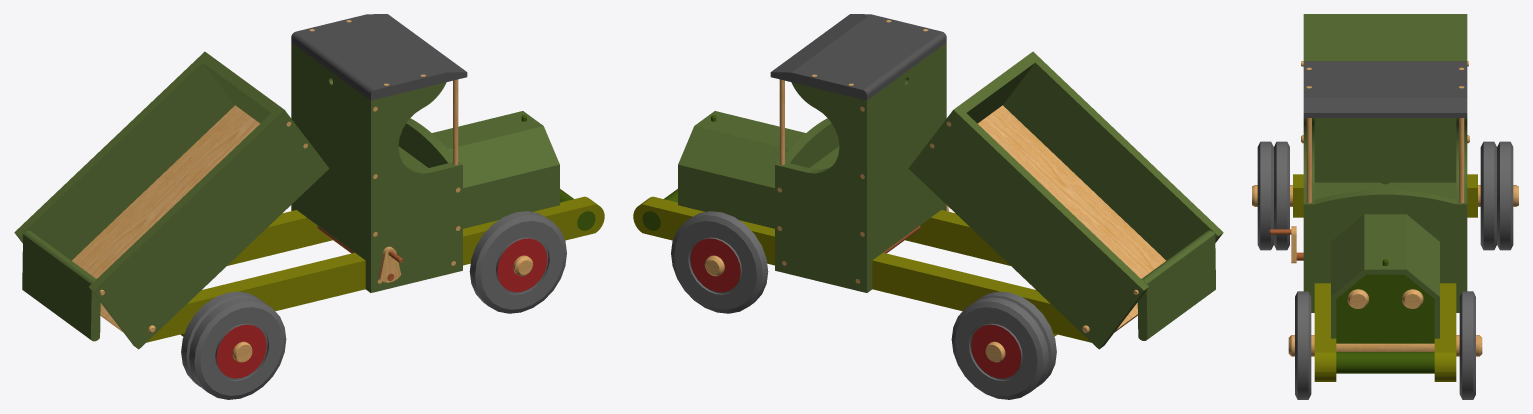
The model's file is truck.dae.
The picture shows the model from 3 angles, left to right: view 1: azimuth 30°, elevation 25°; view 2: azimuth 150°, elevation 25°; view 3: azimuth 270°, elevation 25°; orthographic projection. The views are drawn at different scales.
Visible parts, largest first — view 1: dump_side12, wheel12 (×3), dump_side, cab_side, cab_back, cab_top, frame, dump_bottom, dump_tail_gate, engine_upper_side, engine_side12, frame12 (+6 smaller); view 2: dump_side, wheel (×3), cab_side_1, dump_side12, cab_back, cab_top, frame12, dump_bottom, dump_tail_gate, engine_upper_side12, engine_side, frame (+5 smaller); view 3: cab_top, cab_back, dump_front, cab_front, engine_front_back, wheel (×3), wheel12 (×3), engine_top, _1__dowel_for_frame, engine_upper_side, engine_upper_side12, frame (+14 smaller).
Part boxes in pixels (x1=…): dump_side12: x1=89, y1=106, x2=329, y2=349; wheel12 (×3): x1=181, y1=211, x2=566, y2=399; dump_side: x1=14, y1=51, x2=234, y2=260; cab_side: x1=365, y1=82, x2=462, y2=292; cab_back: x1=296, y1=46, x2=365, y2=259; cab_top: x1=291, y1=14, x2=467, y2=100; frame: x1=146, y1=196, x2=604, y2=342; dump_bottom: x1=71, y1=105, x2=260, y2=331; dump_tail_gate: x1=22, y1=230, x2=100, y2=341; engine_upper_side: x1=448, y1=126, x2=559, y2=188; engine_side12: x1=463, y1=164, x2=559, y2=228; frame12: x1=227, y1=210, x2=332, y2=265; dump_side: x1=908, y1=106, x2=1148, y2=349; wheel (×3): x1=671, y1=211, x2=1056, y2=399; cab_side_1: x1=775, y1=82, x2=872, y2=292; dump_side12: x1=1003, y1=51, x2=1223, y2=260; cab_back: x1=872, y1=46, x2=941, y2=259; cab_top: x1=770, y1=14, x2=946, y2=100; frame12: x1=633, y1=196, x2=1091, y2=342; dump_bottom: x1=977, y1=105, x2=1166, y2=331; dump_tail_gate: x1=1137, y1=230, x2=1215, y2=340; engine_upper_side12: x1=678, y1=126, x2=789, y2=188; engine_side: x1=678, y1=164, x2=774, y2=228; frame: x1=905, y1=210, x2=1010, y2=265; cab_top: x1=1303, y1=61, x2=1467, y2=117; cab_back: x1=1314, y1=118, x2=1456, y2=184; dump_front: x1=1314, y1=14, x2=1456, y2=61; cab_front: x1=1314, y1=190, x2=1456, y2=283; engine_front_back: x1=1336, y1=274, x2=1434, y2=343; wheel (×3): x1=1459, y1=141, x2=1513, y2=399; wheel12 (×3): x1=1257, y1=141, x2=1311, y2=399; engine_top: x1=1364, y1=214, x2=1406, y2=274; _1__dowel_for_frame: x1=1336, y1=352, x2=1434, y2=373; engine_upper_side: x1=1331, y1=214, x2=1366, y2=298; engine_upper_side12: x1=1404, y1=214, x2=1439, y2=298; frame: x1=1314, y1=283, x2=1336, y2=381.
Size of the model in its own units: 28.05 by 12.25 by 13.38.
Materials: 12 (5 with a texture image).
